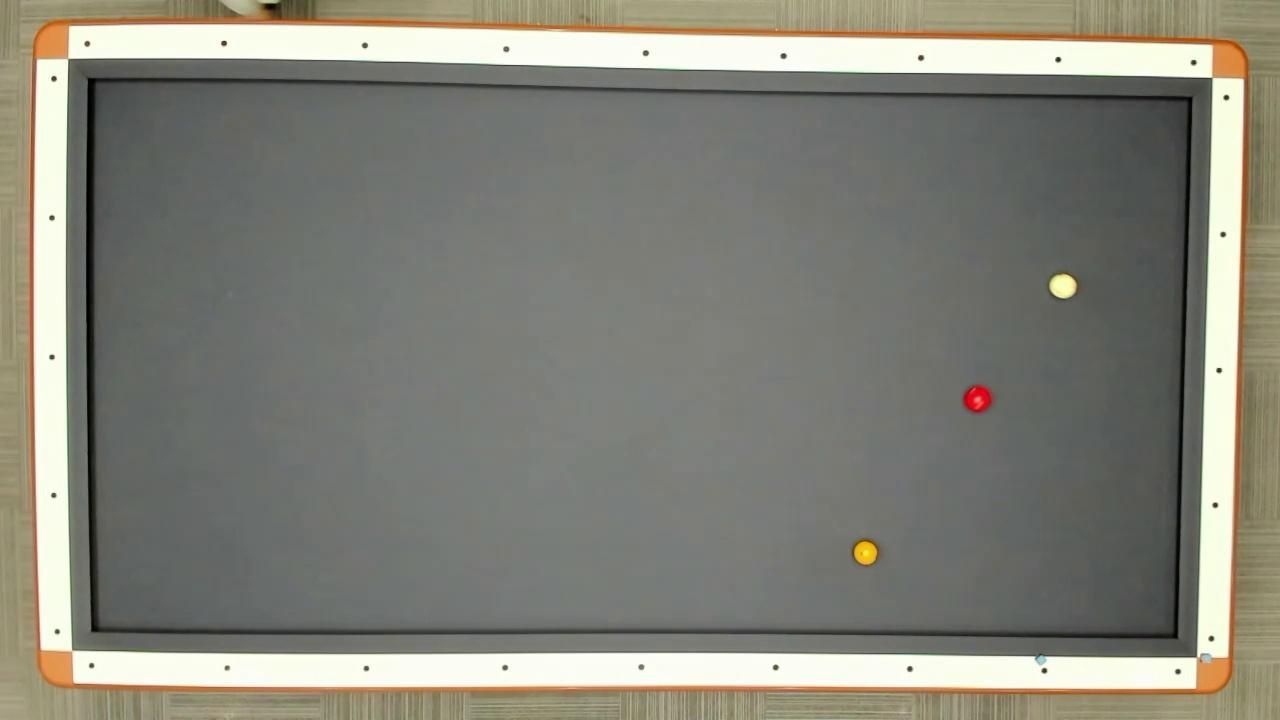Red: (961, 383, 992, 415)
White: (1046, 271, 1078, 302)
Yellow: (851, 538, 879, 567)
